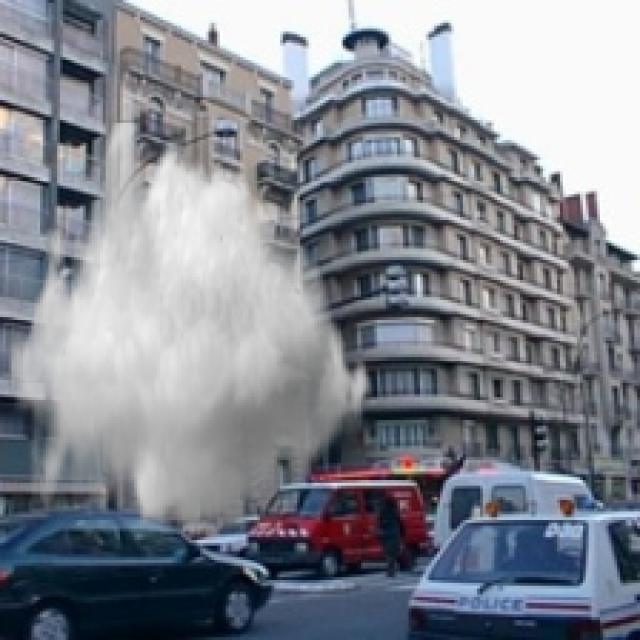smoke: (9, 120, 380, 543)
